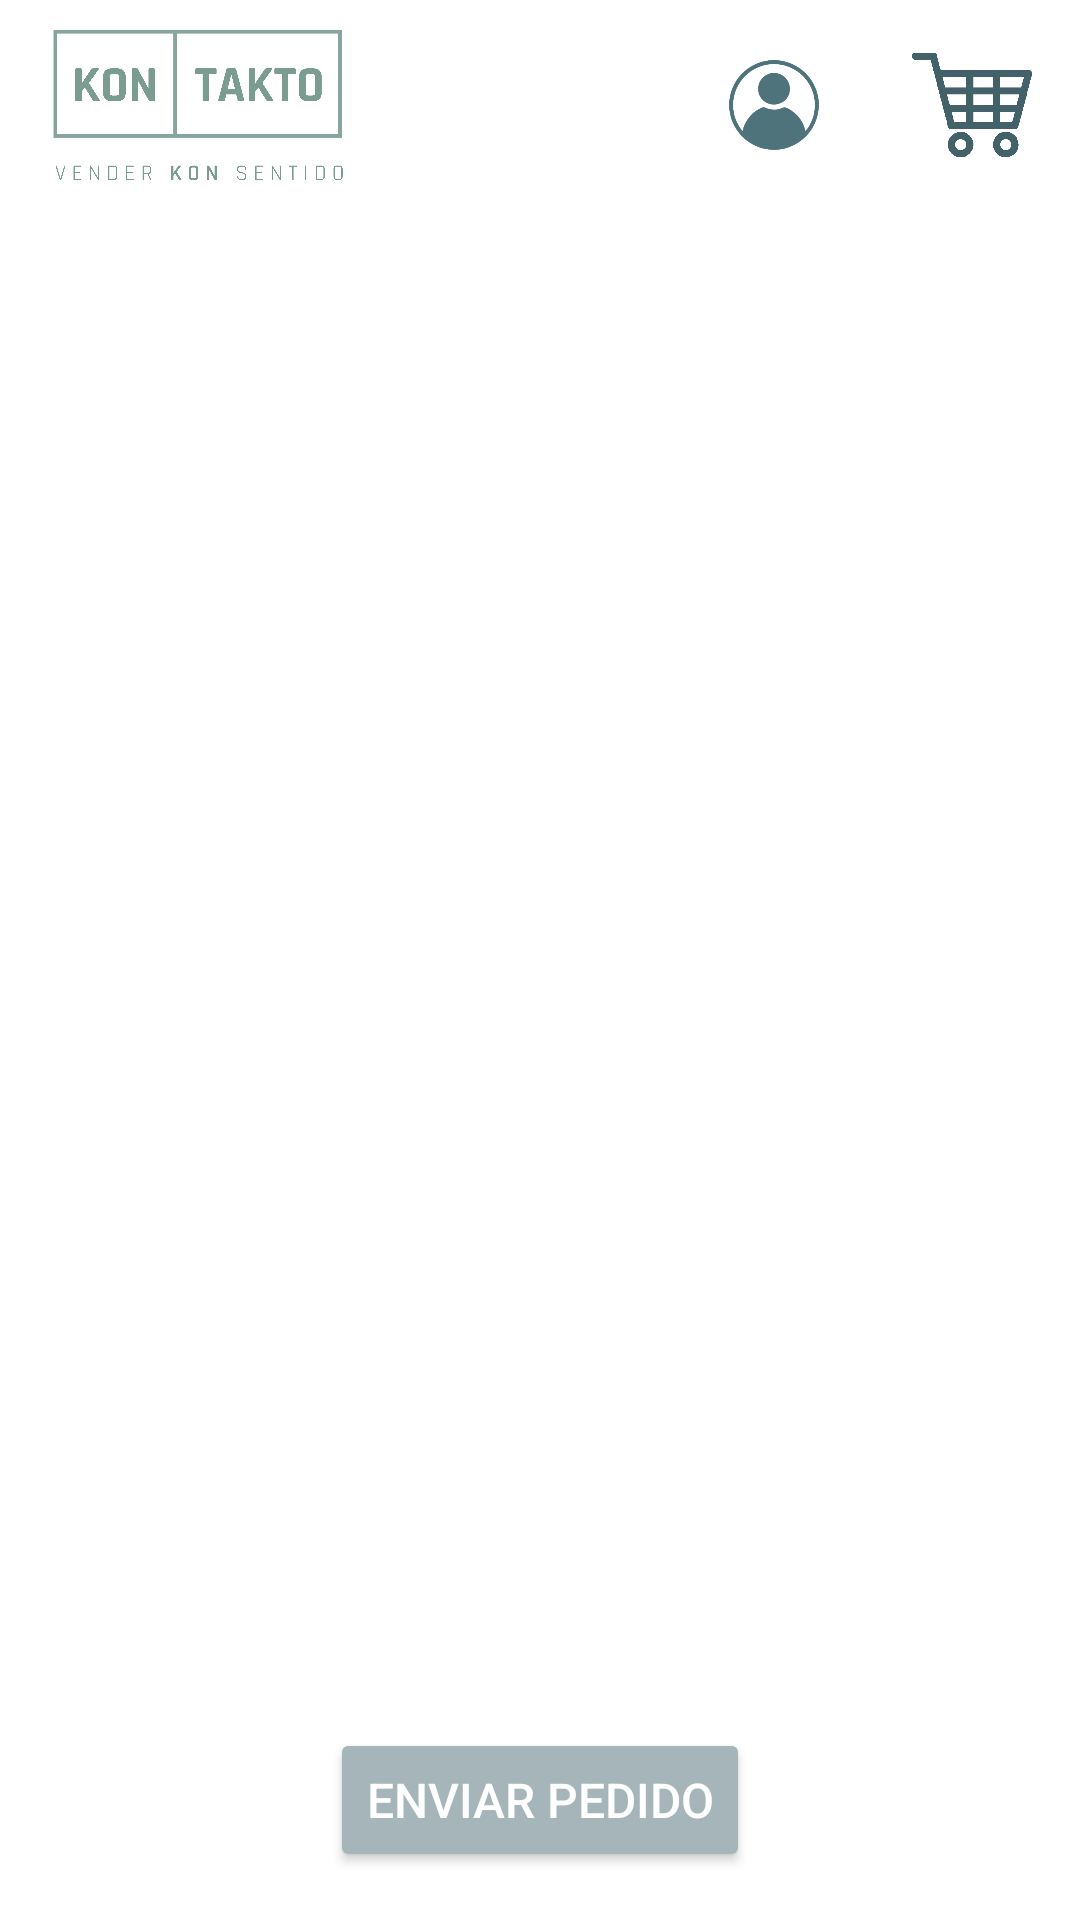

Icon bounding boxes for this 1080x1920 phone screenshot, format (x1, y1, x2, y2):
carrro: (912, 53, 1032, 157)
perffil: (729, 60, 819, 150)
